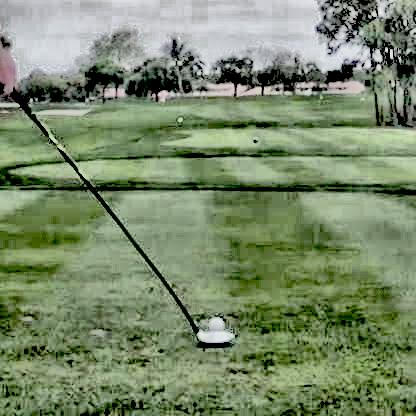golfball: (206, 313, 221, 329)
